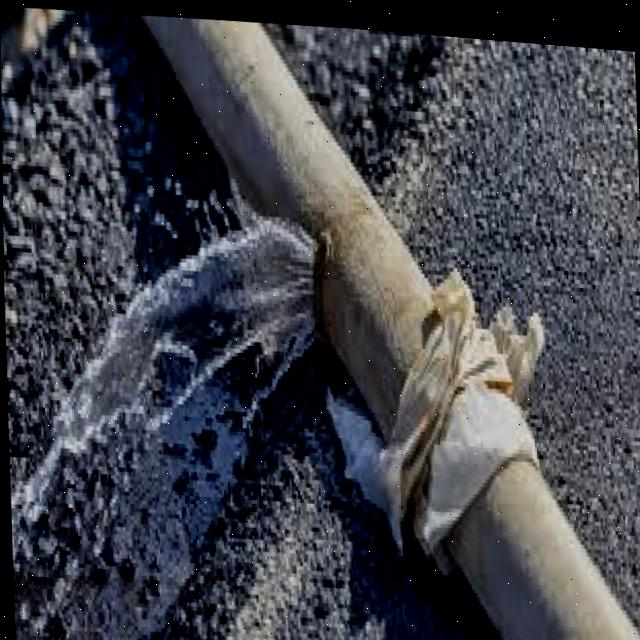corrosion: (224, 122, 402, 412)
